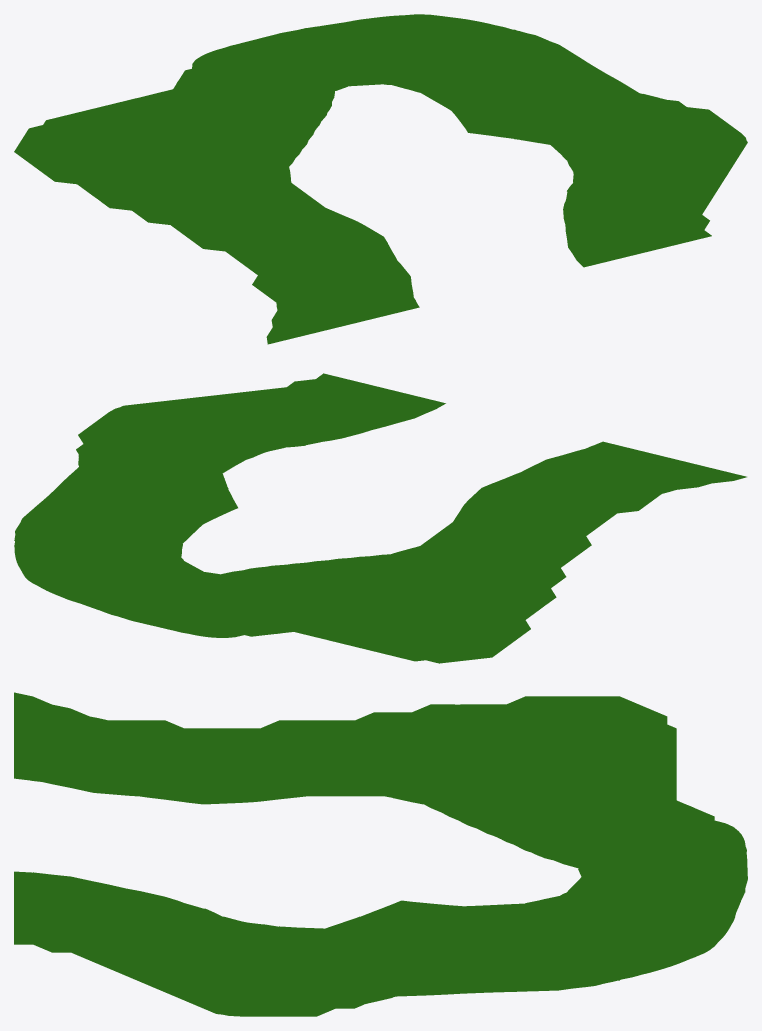
Rendered from grass-map.glb.
3 views of the same model, one above another, from view 1: azimuth 30°, elevation 25°; view 2: azimuth 150°, elevation 25°; view 3: azimuth 270°, elevation 25° (orthographic). The views are drawn at different scales.
Parts seen in each view (by area): view 1: Плоскость; view 2: Плоскость; view 3: Плоскость.
Part boxes in pixels (bbox=[...]): Плоскость: bbox=[14, 14, 747, 344]; Плоскость: bbox=[14, 373, 746, 663]; Плоскость: bbox=[14, 692, 747, 1016].
Size of the model in its own units: 81 by 3.77e-08 by 77.52.
